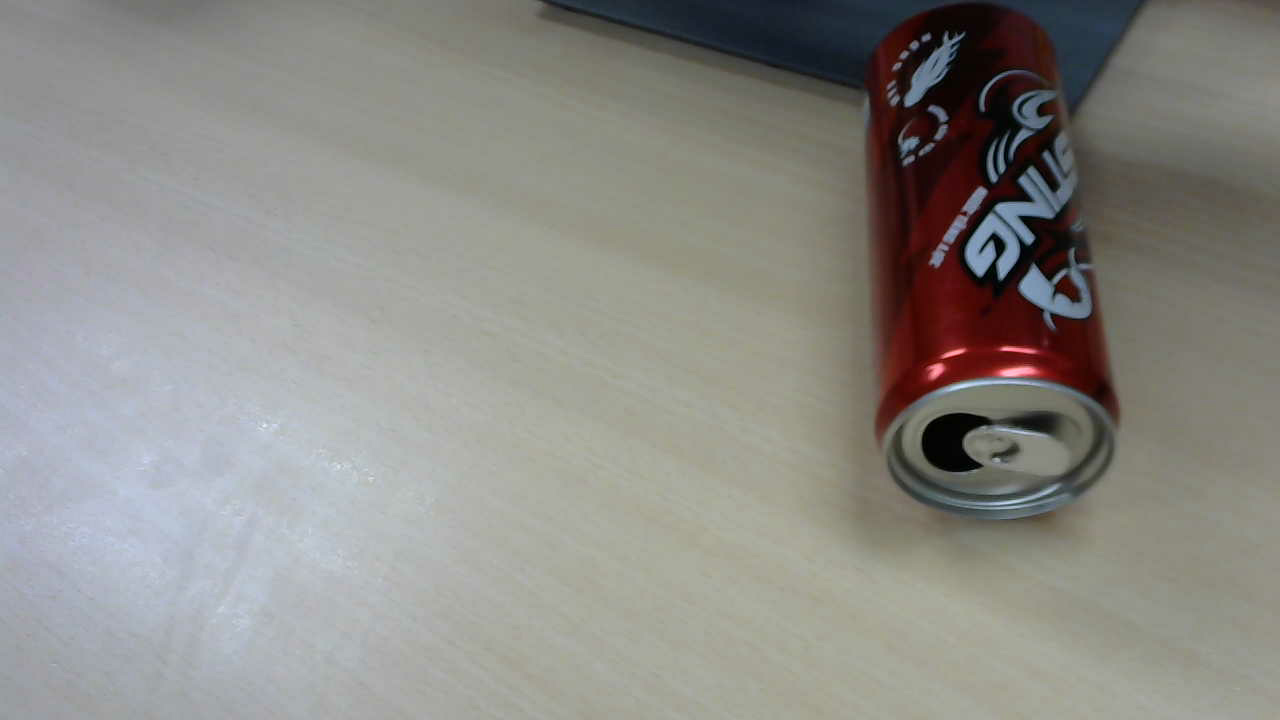Sting: (862, 11, 1129, 514)
